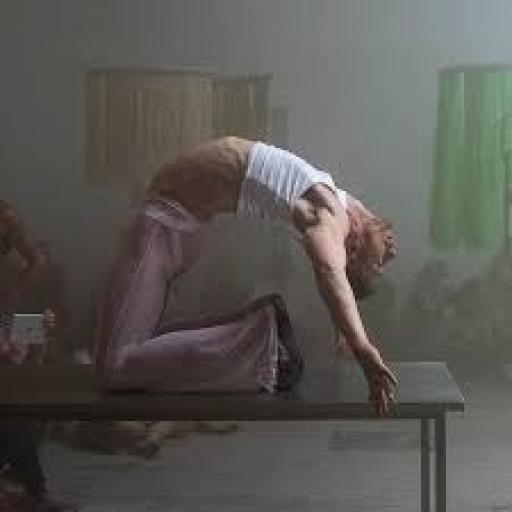dancing: (49, 98, 431, 408)
